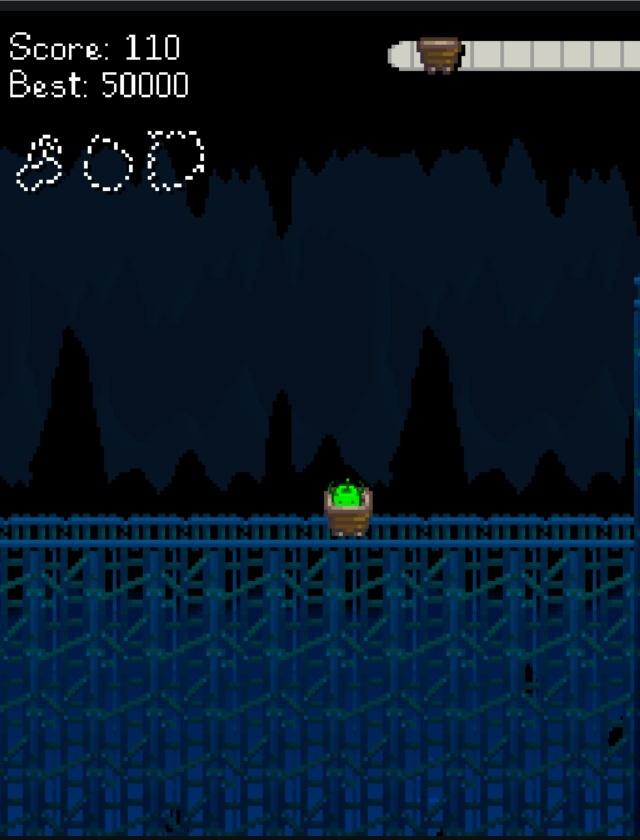minecart: (324, 491, 371, 534)
tracks: (1, 506, 633, 551)
